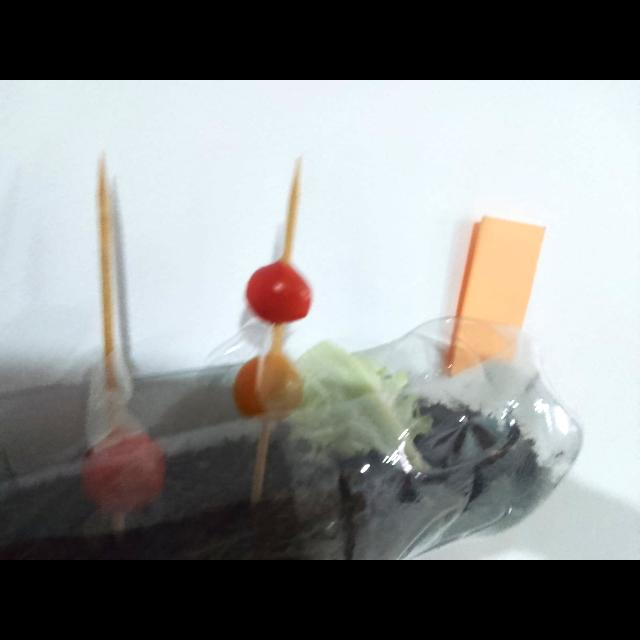card: (456, 217, 544, 328), (445, 320, 506, 375)
fruit_maturation: (82, 429, 166, 515), (233, 352, 303, 416)
fully_grown: (246, 261, 312, 324)
